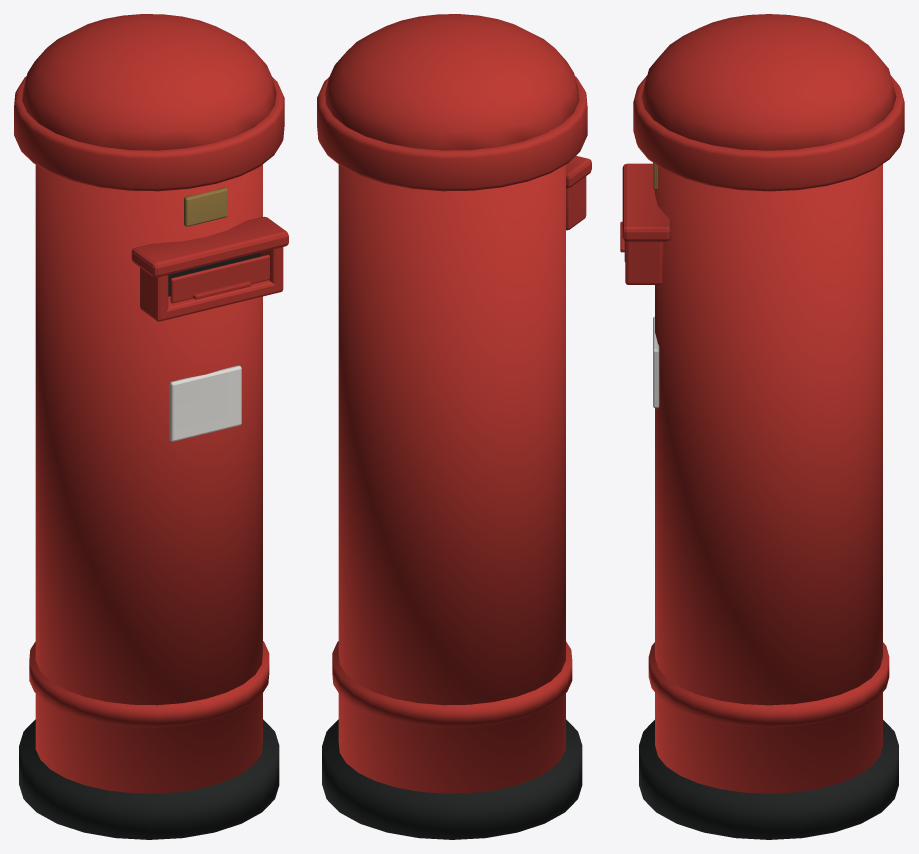
Rendered from postBox.glb.
3 views of the same model, side by side, from view 1: azimuth 30°, elevation 25°; view 2: azimuth 150°, elevation 25°; view 3: azimuth 270°, elevation 25° (orthographic).
Visible parts, largest first — view 1: postBox, flap; view 2: postBox; view 3: postBox.
Boxes of the visible parts, bbox=[...] form: postBox: bbox=[14, 14, 288, 839]; flap: bbox=[170, 255, 269, 303]; postBox: bbox=[317, 14, 591, 839]; postBox: bbox=[622, 14, 904, 839].
Size of the model in its own units: 0.5 by 1.53 by 0.524.
